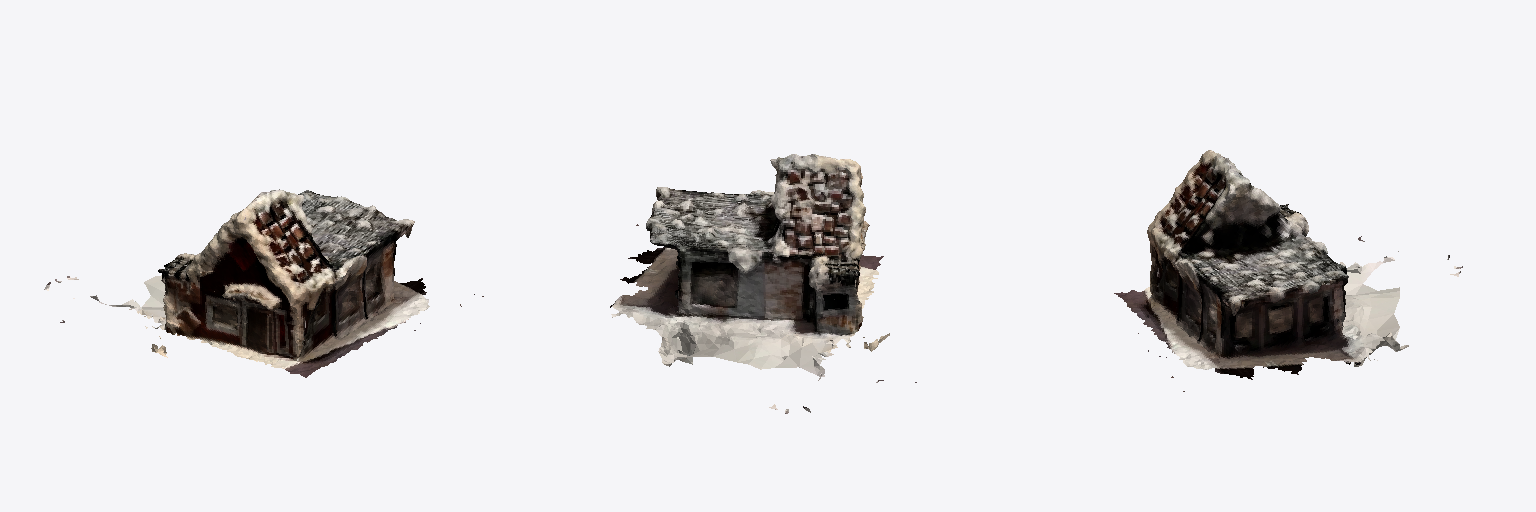
3 renders of one model, left to right at view 1: azimuth 30°, elevation 25°; view 2: azimuth 150°, elevation 25°; view 3: azimuth 270°, elevation 25°, orthographic.
Visible parts, largest first — view 1: map_af6a6050-818e-40ad-a2fb-4723f232f00d_densified_mesh_tex.001; view 2: map_af6a6050-818e-40ad-a2fb-4723f232f00d_densified_mesh_tex.001; view 3: map_af6a6050-818e-40ad-a2fb-4723f232f00d_densified_mesh_tex.001.
Boxes of the visible parts, box(x1,y1,x2,y2) form: map_af6a6050-818e-40ad-a2fb-4723f232f00d_densified_mesh_tex.001: box(44, 189, 483, 377); map_af6a6050-818e-40ad-a2fb-4723f232f00d_densified_mesh_tex.001: box(610, 154, 916, 413); map_af6a6050-818e-40ad-a2fb-4723f232f00d_densified_mesh_tex.001: box(1114, 150, 1462, 391).
Bounding box in the file's own units: 0.5818 × 0.2715 × 0.5147.
1 materials, 1 textured.